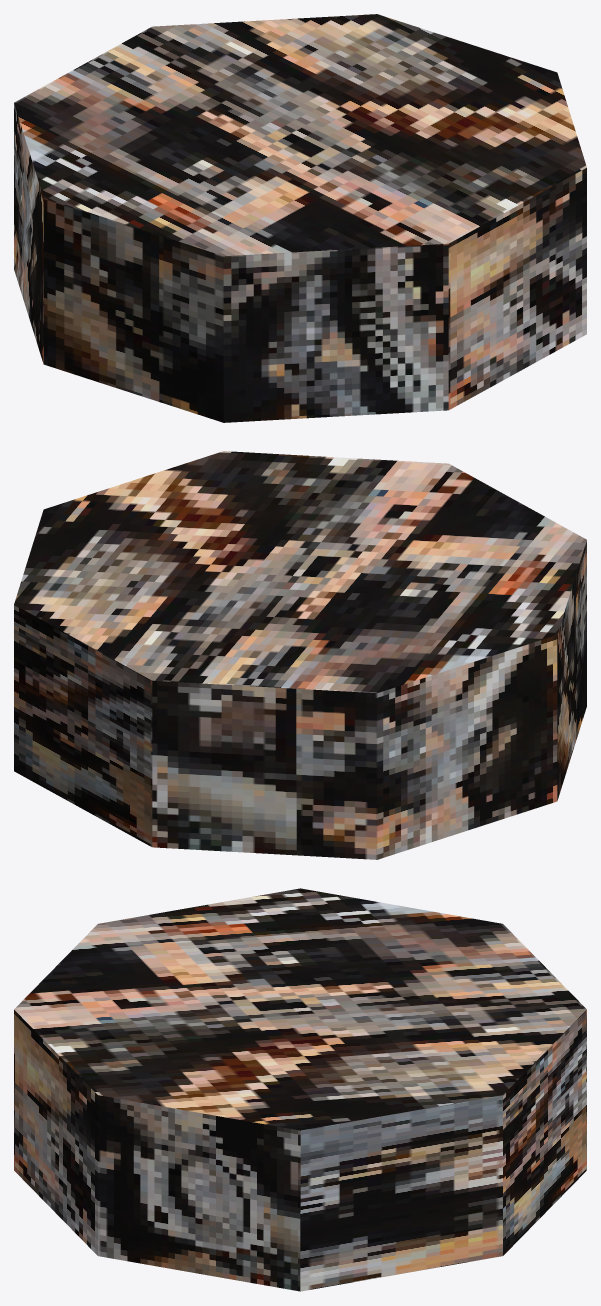
File: scrab.fbx
The picture shows the model from 3 angles, top to bottom: view 1: azimuth 30°, elevation 25°; view 2: azimuth 150°, elevation 25°; view 3: azimuth 270°, elevation 25°; orthographic projection. The views are drawn at different scales.
Parts seen in each view (by area): view 1: scrab; view 2: scrab; view 3: scrab.
Part boxes in pixels (box(x1,y1,x2,y2)): scrab: box(14, 14, 586, 422); scrab: box(14, 451, 586, 859); scrab: box(14, 888, 586, 1291).
Size of the model in its own units: 60.67 by 18.81 by 60.67.
Materials: 1 (1 with a texture image).
